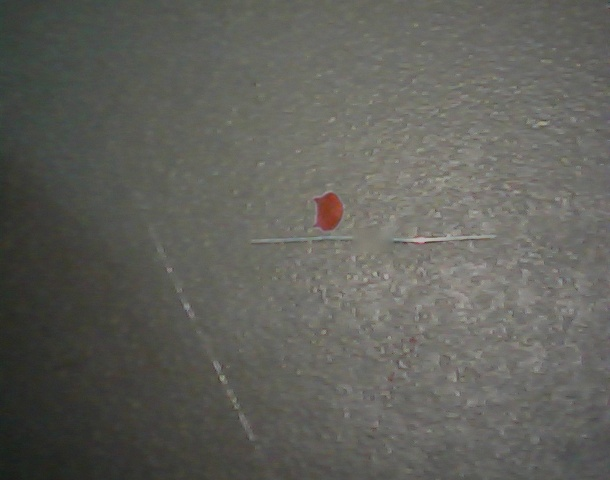capacitor: (313, 191, 344, 232)
